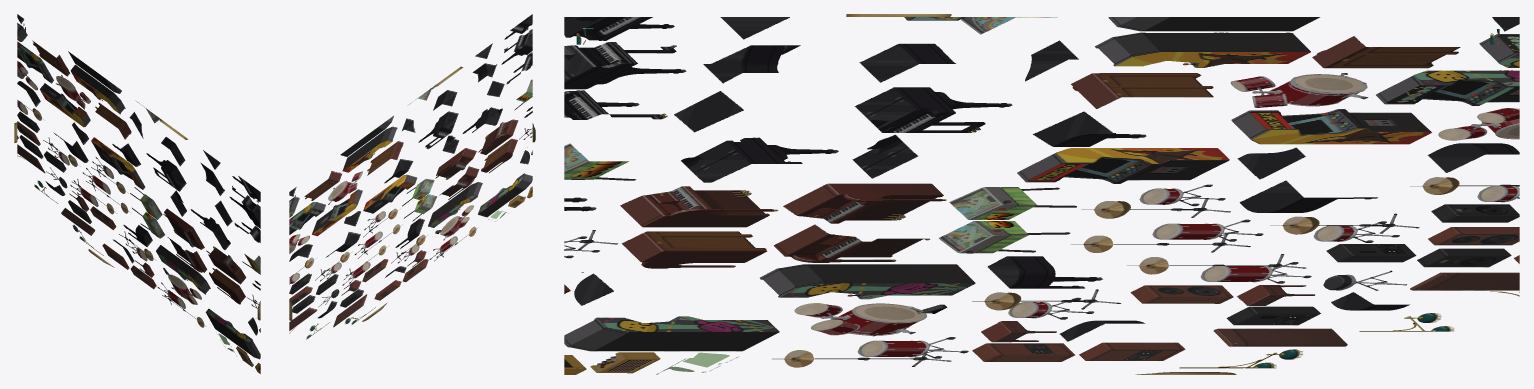
The picture shows the model from 3 angles, left to right: view 1: azimuth 30°, elevation 25°; view 2: azimuth 150°, elevation 25°; view 3: azimuth 270°, elevation 25°; orthographic projection. The views are drawn at different scales.
Size of the model in its own units: 0.0189 by 0.8 by 1.93.
